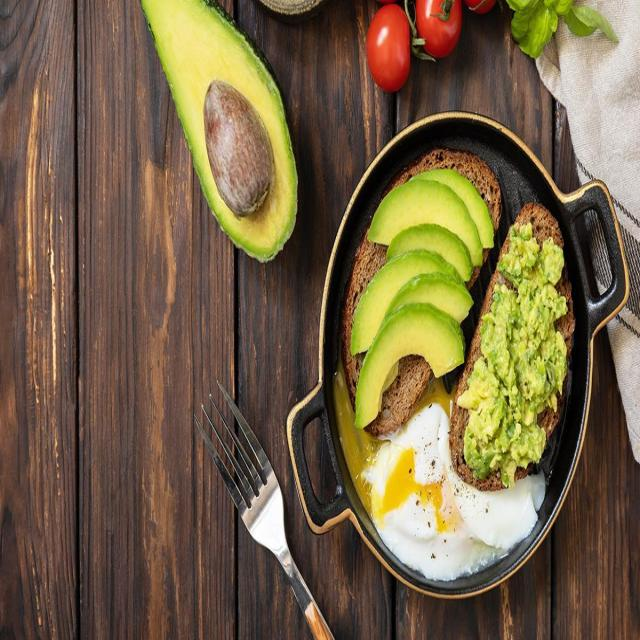aguacate: (134, 0, 307, 273), (352, 155, 489, 434)
